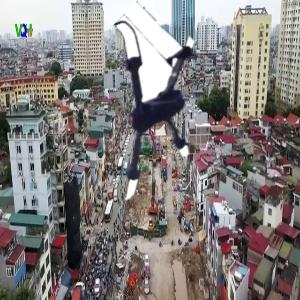drone: (63, 28, 234, 199)
